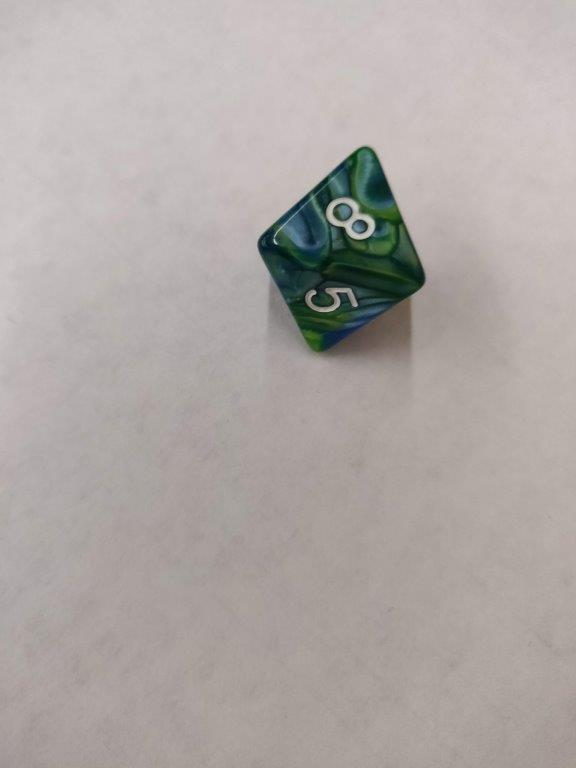d8-8: (258, 144, 429, 354)
